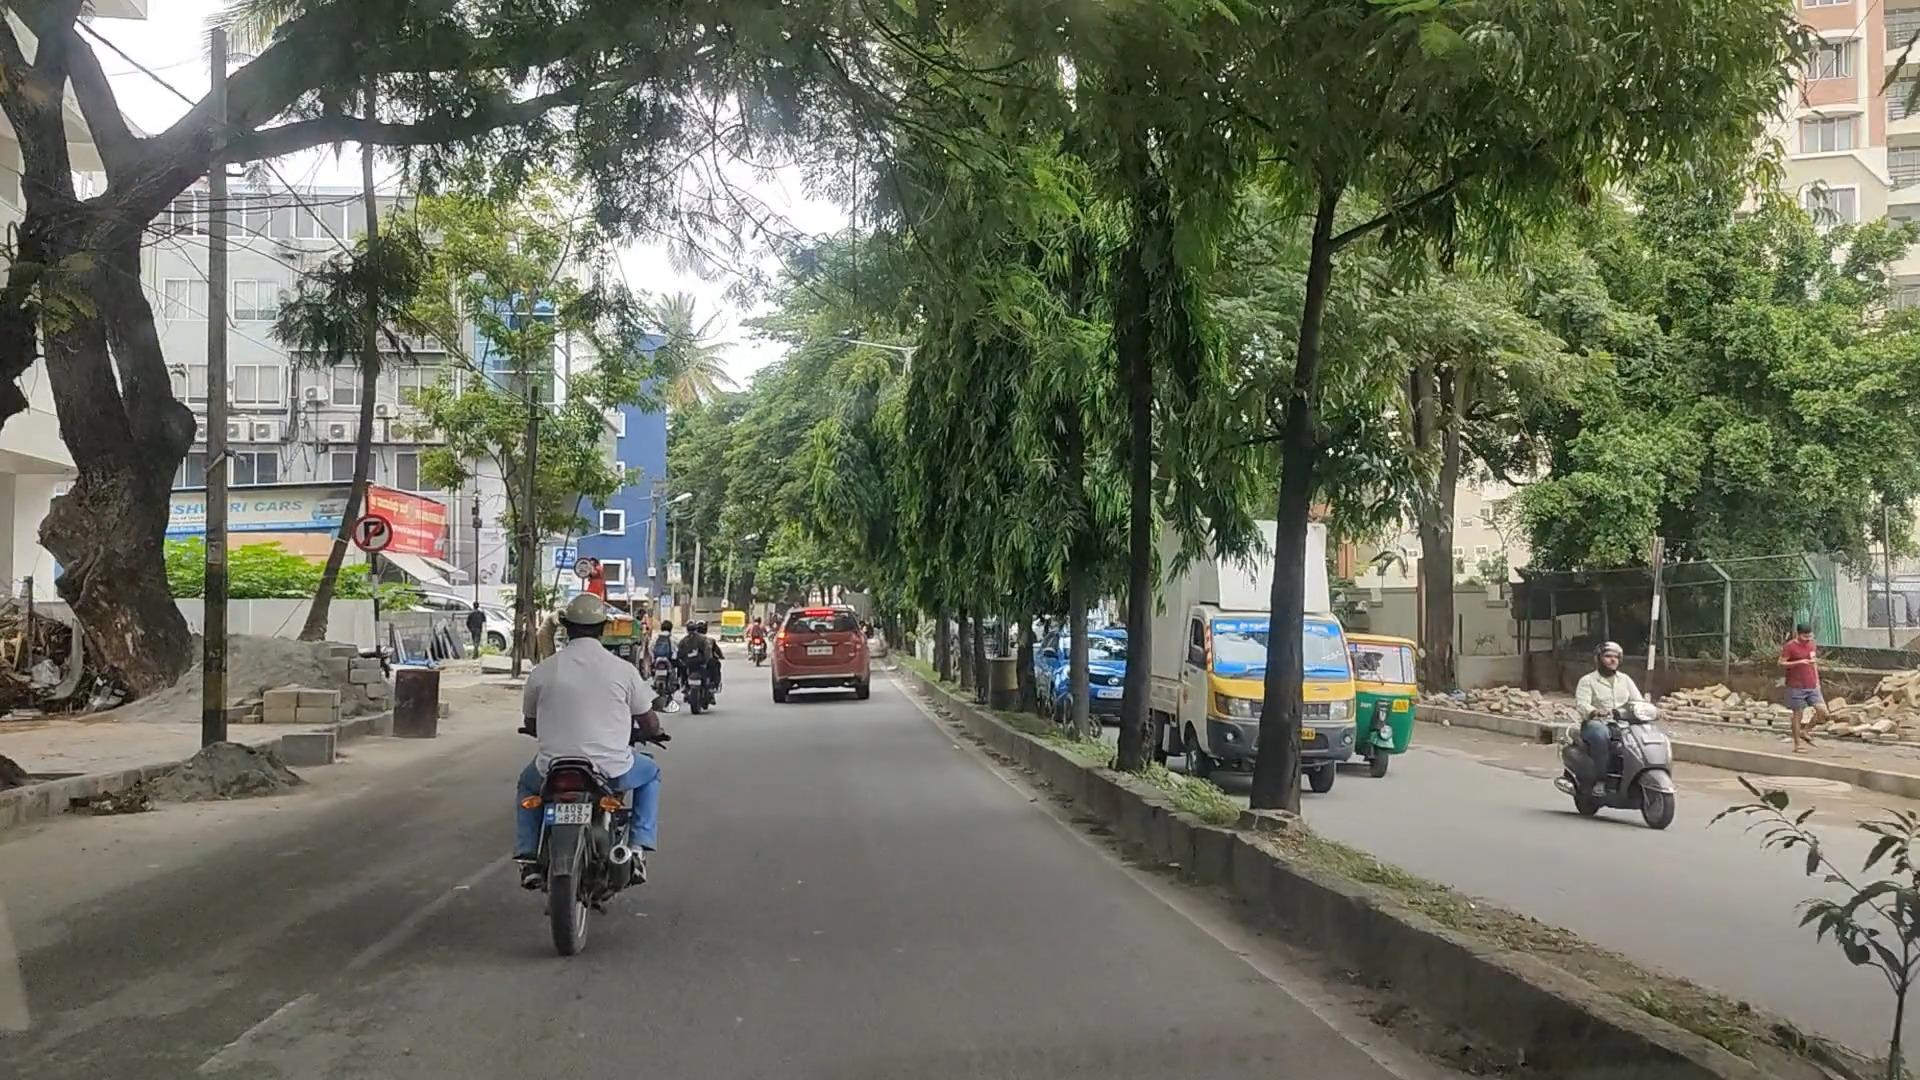LMV: (517, 588, 625, 920), (775, 600, 865, 708)
